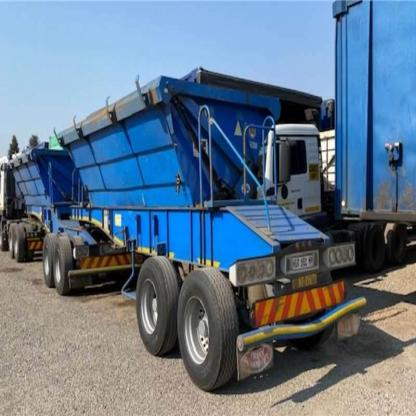dump_truck: (1, 69, 367, 388)
